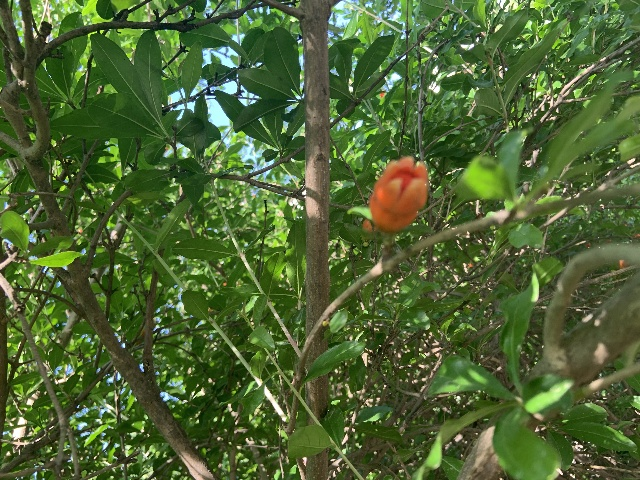flower: (368, 156, 427, 233)
